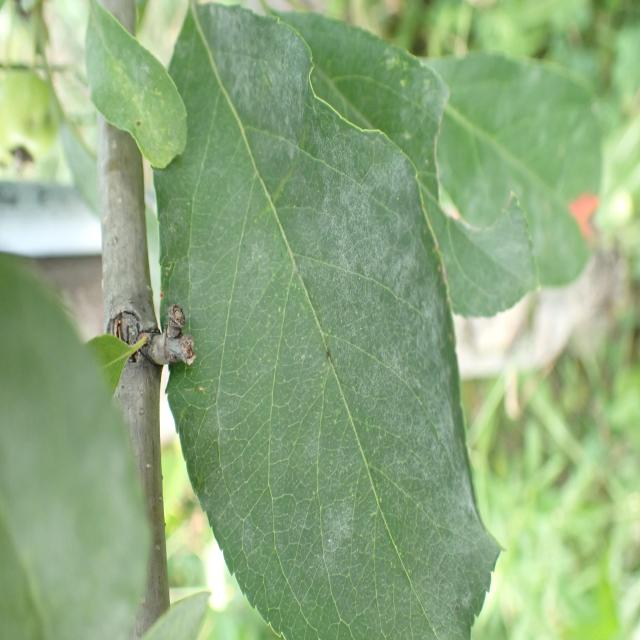Powdery_mildew: (150, 0, 480, 640), (342, 15, 546, 338)
